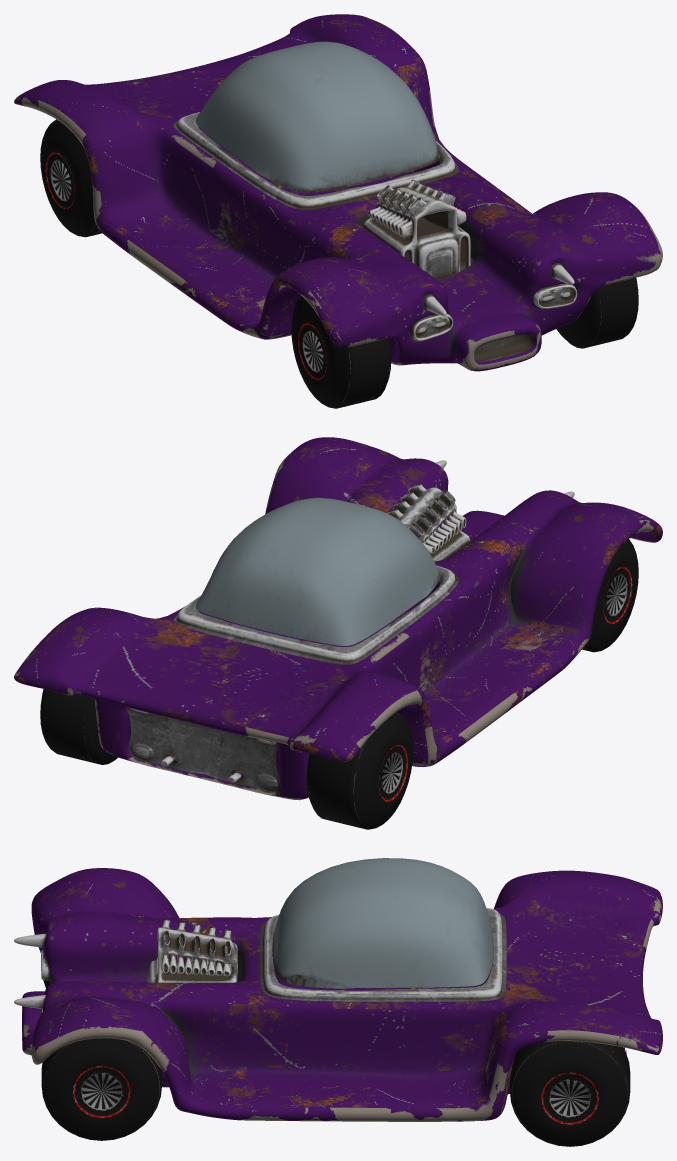
The picture shows the model from 3 angles, top to bottom: view 1: azimuth 30°, elevation 25°; view 2: azimuth 150°, elevation 25°; view 3: azimuth 270°, elevation 25°; orthographic projection.
Parts seen in each view (by area): view 1: Cube.001, Cube.000, glass.000_Mesh.001; view 2: Cube.001, Cube.000, glass.000_Mesh.001; view 3: Cube.001, Cube.000, glass.000_Mesh.001.
Boxes of the visible parts, bbox=[...] form: Cube.001: bbox=[14, 14, 662, 371]; Cube.000: bbox=[195, 41, 440, 192]; glass.000_Mesh.001: bbox=[40, 119, 638, 408]; Cube.001: bbox=[14, 437, 662, 800]; Cube.000: bbox=[195, 497, 440, 645]; glass.000_Mesh.001: bbox=[40, 539, 638, 829]; Cube.001: bbox=[14, 868, 662, 1121]; Cube.000: bbox=[272, 858, 493, 988]; glass.000_Mesh.001: bbox=[41, 980, 630, 1146].
Bounding box in the file's own units: 321 × 184 × 539.
3 materials, 3 textured.
